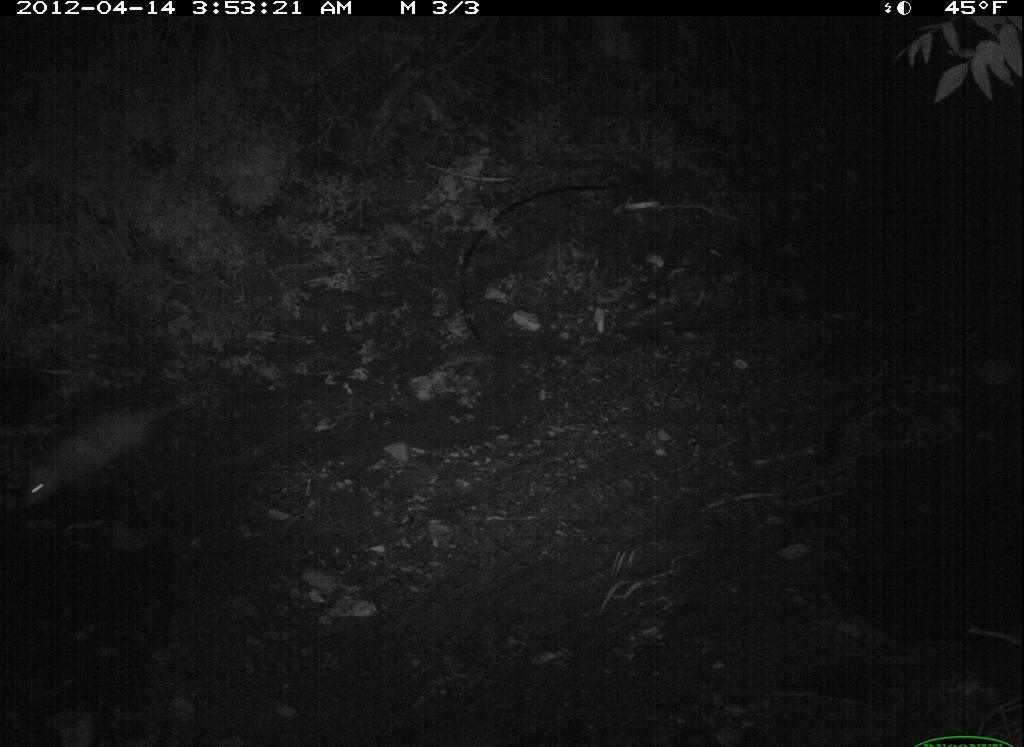opossum: (20, 393, 207, 521)
